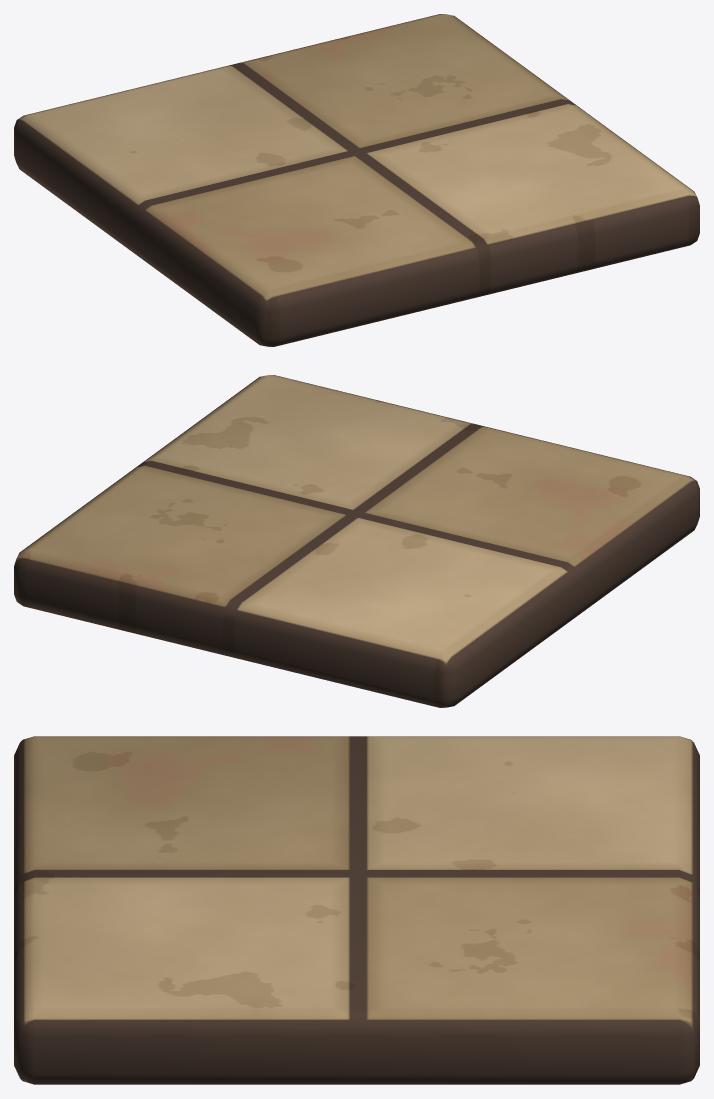
The model's file is floor.glb.
3 views of the same model, one above another, from view 1: azimuth 30°, elevation 25°; view 2: azimuth 150°, elevation 25°; view 3: azimuth 270°, elevation 25° (orthographic). The views are drawn at different scales.
Parts seen in each view (by area): view 1: floor; view 2: floor; view 3: floor.
Part boxes in pixels (x1,y1,x2,y2): floor: (14,14,699,346); floor: (14,375,699,707); floor: (14,736,699,1084).
Size of the model in its own units: 1 by 0.12 by 1.
Materials: 1 (1 with a texture image).
